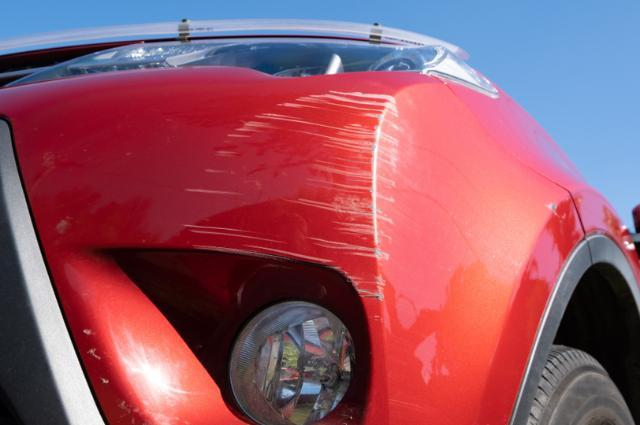Bumper: (155, 74, 420, 326)
